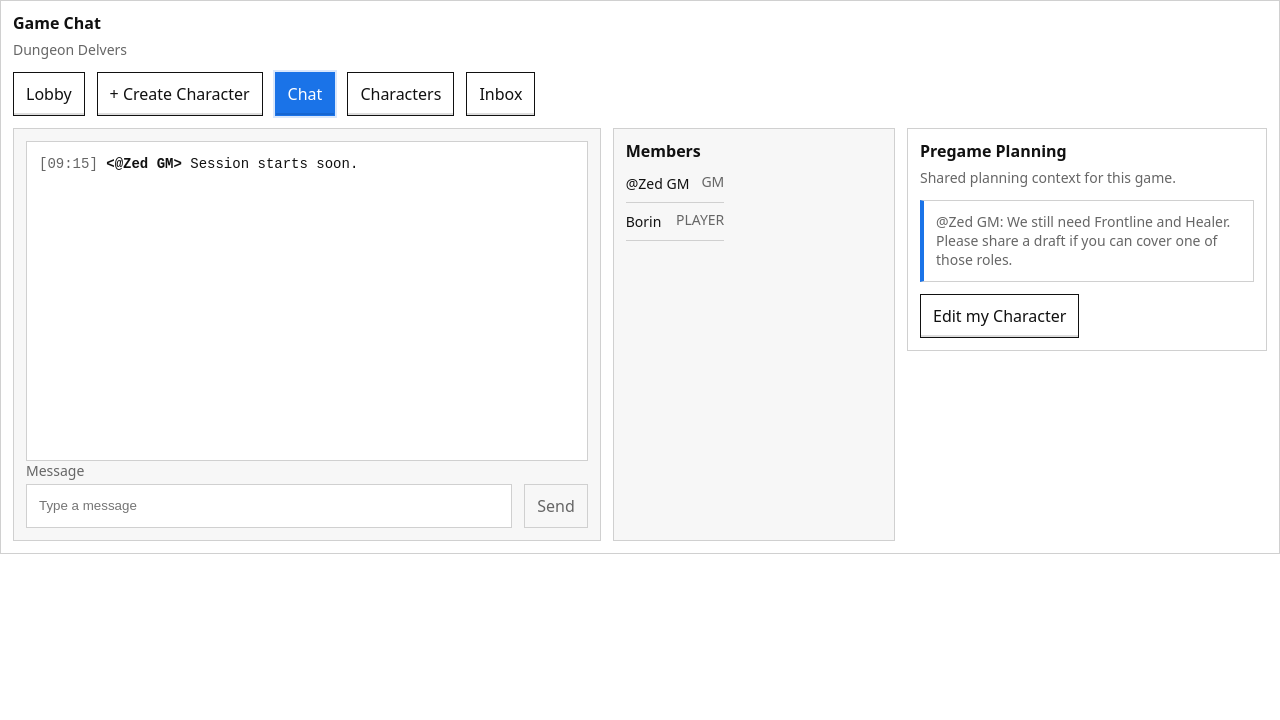
GameChatPage › renders the IRC-style transcript and refreshes after sending a message
expect the text "Dungeon Delvers" is shown: met, box x1=13 y1=40 x2=127 y2=59
expect the text "@Zed GM: We still need Frontline and Healer. Please share a draft if you can cover one of those roles." is shown: met, box x1=936 y1=212 x2=1230 y2=269
Type "  Ready for the delve.  " into the field labelled "Message" at (269,506), box x1=26 y1=484 x2=512 y2=528
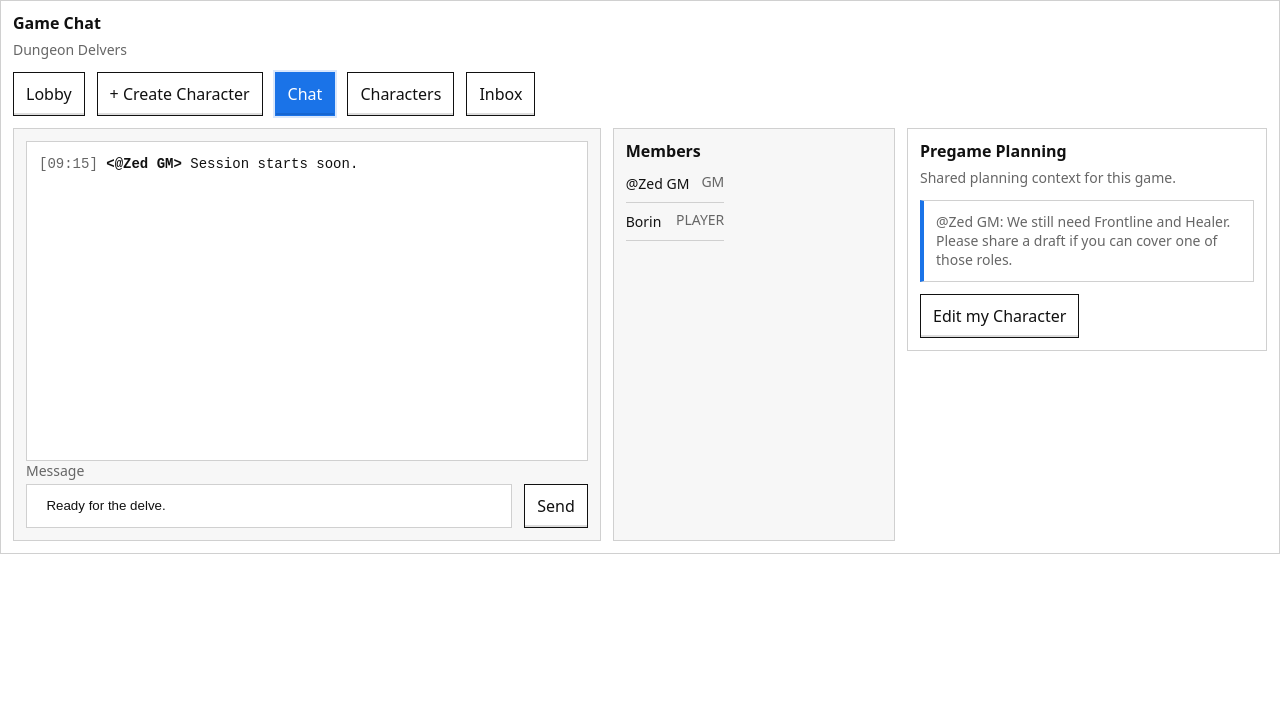
Click the button "Send" at (556,506), box x1=524 y1=484 x2=588 y2=528
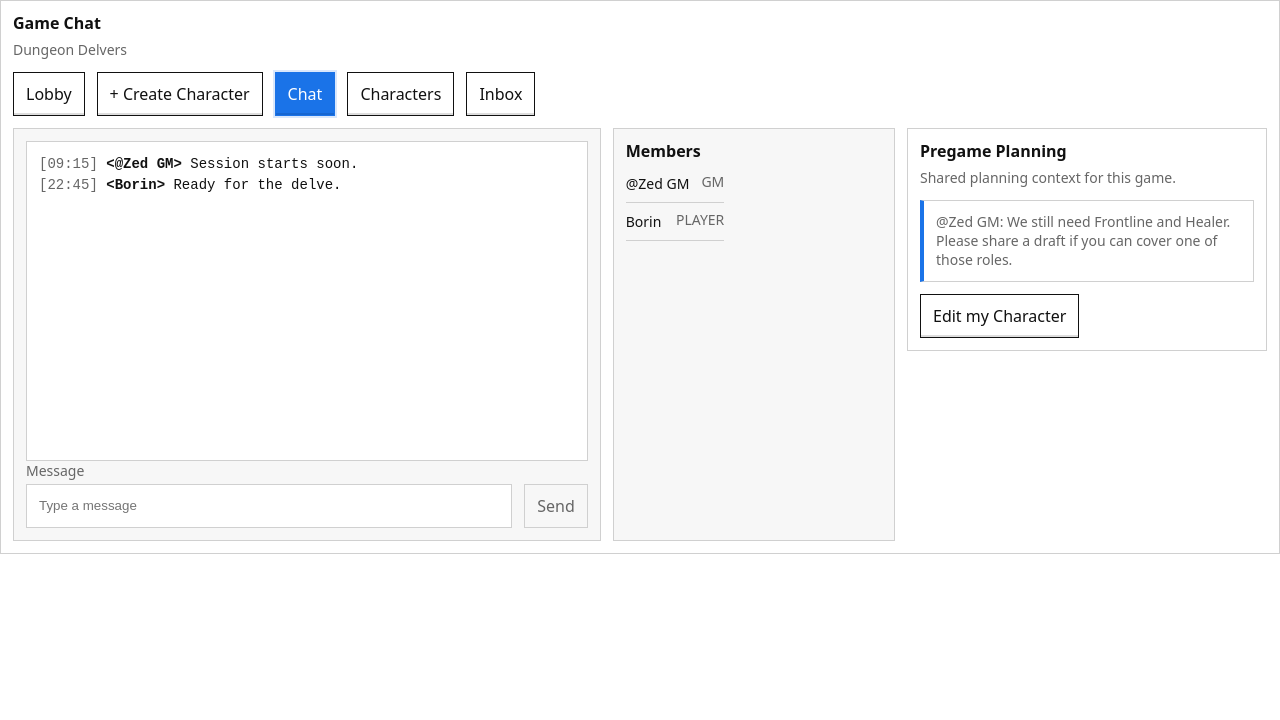
expect the text "<Borin>" is shown: met, box x1=106 y1=177 x2=165 y2=193
expect the text "Ready for the delve." is shown: met, box x1=174 y1=177 x2=342 y2=193
expect the field labelled "Message" is empty: met, box x1=26 y1=484 x2=512 y2=528
